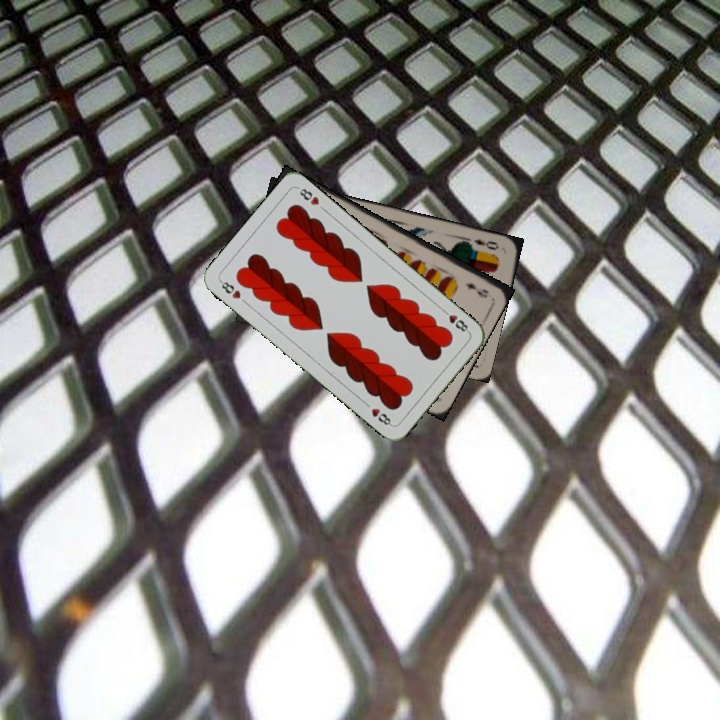E9: (461, 279, 491, 300)
EO: (470, 235, 501, 253)
H8: (438, 305, 472, 335), (216, 276, 243, 302)
